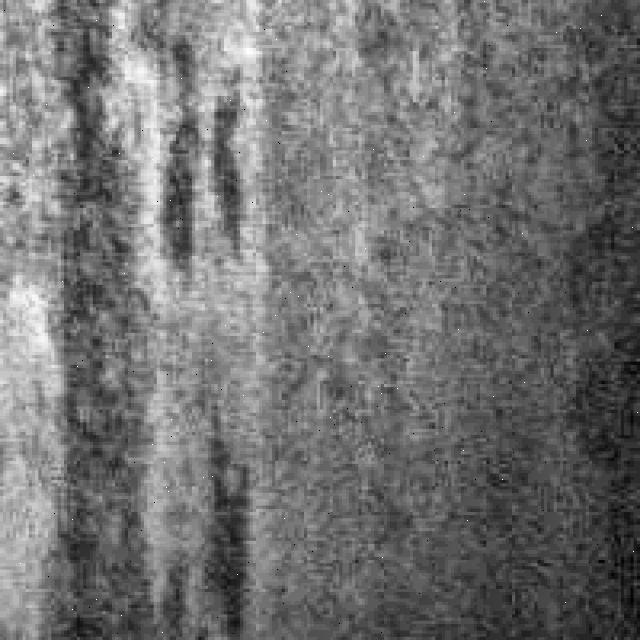Patches: (32, 3, 170, 624), (140, 13, 262, 304), (192, 403, 266, 624)
